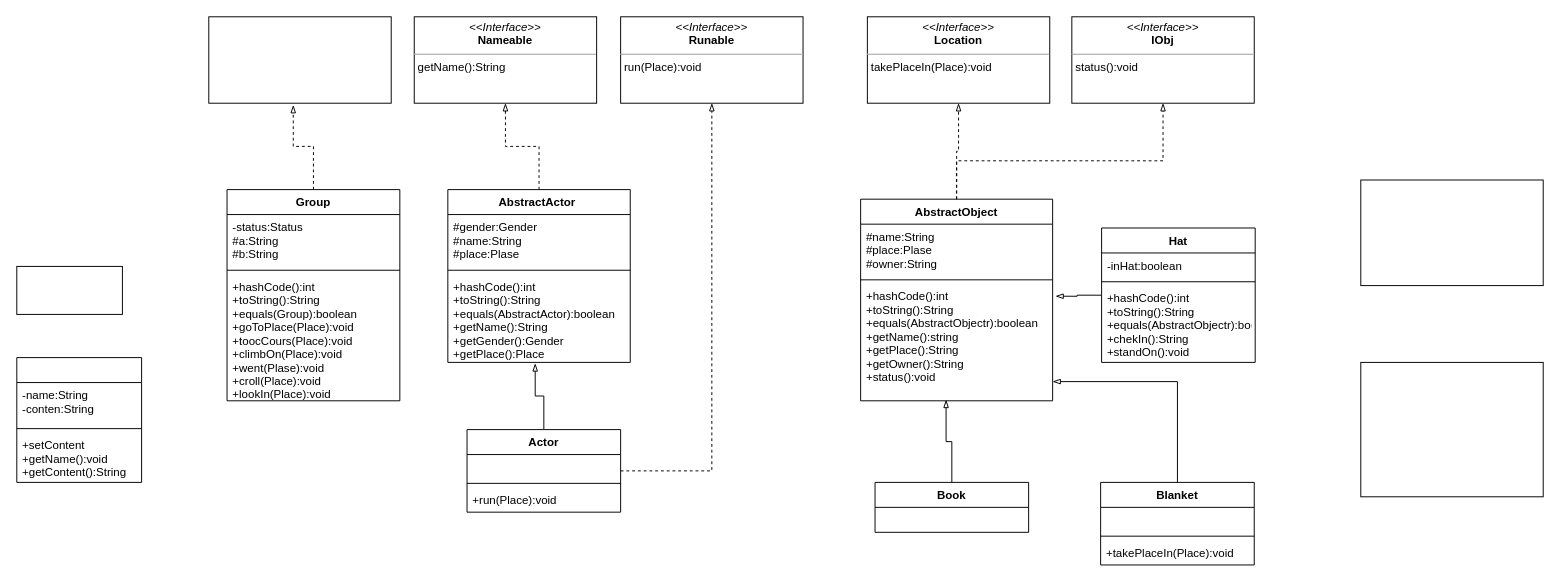
The diagram is 1560 pixels wide and 585 high, and some of its shapes have lost their labels. Here are the shapes that lost their labels. From the top down, the box of each, then its label:
(208, 16, 391, 103): <<Interface>> StatusDoing setStatus():void getName():String
(1360, 179, 1543, 286): <<Enumeration>> Gender MALE FEMALE WITHOUT FAIRYTAIL
(16, 265, 122, 314): Main
(16, 357, 142, 482): Place
(1360, 361, 1543, 497): <<Enumeration>> Status SILENC GUESSES CAREFULLI SHORTROAD STEALTH NORMAL
